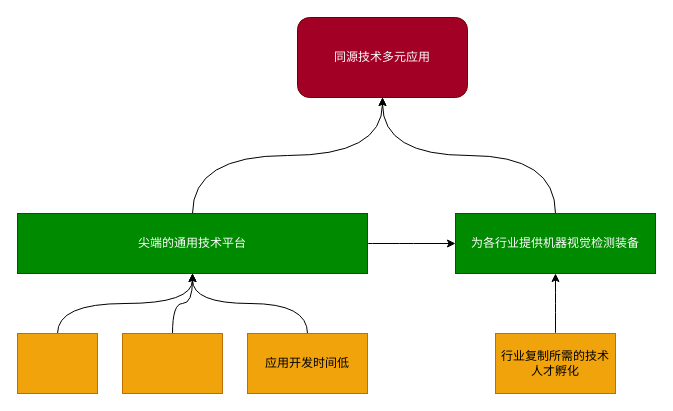
This 673x411 diagram has some shape labels left out. Here are the shapes that lost their labels. From the top down, the centre of each, then its label:
(57,363): 人力要求低
(172,363): 人员能力要求低
